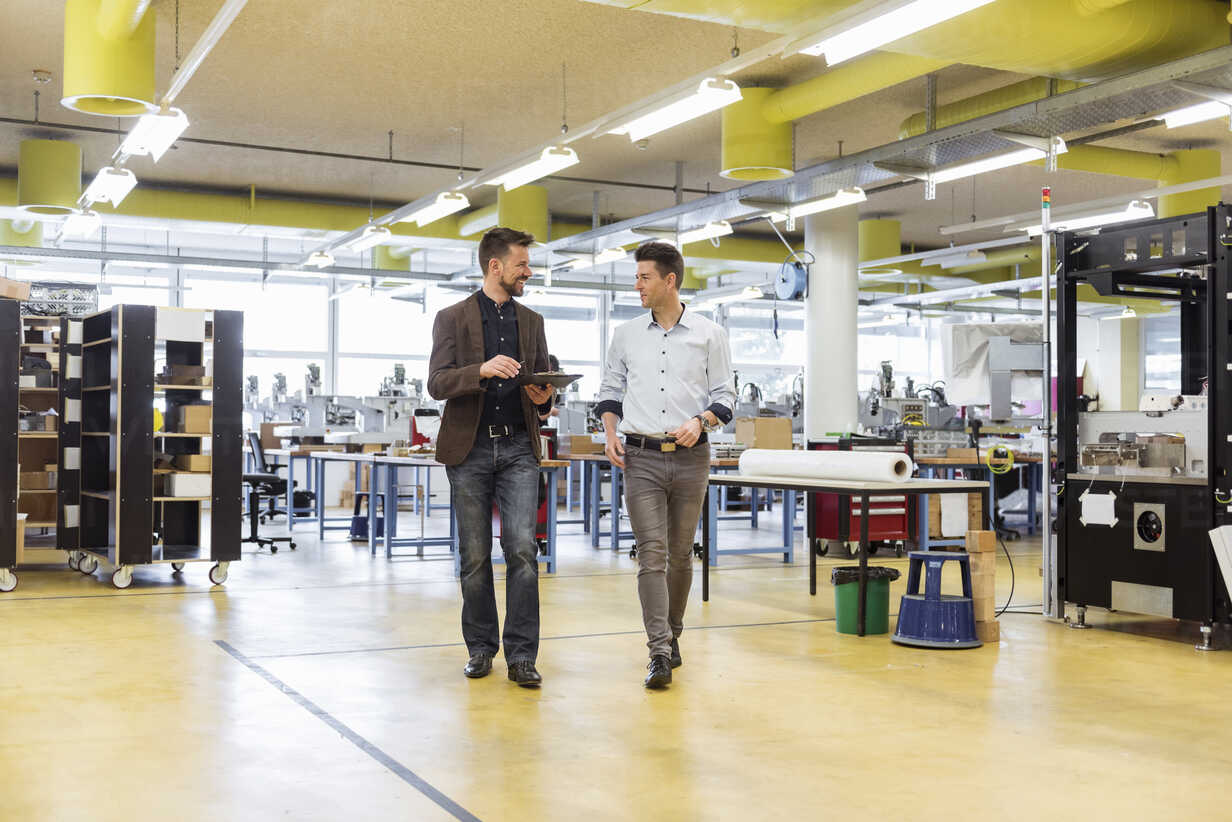person: (598, 240, 734, 688), (427, 228, 559, 686)
